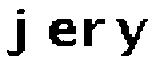e: (47, 16, 78, 49)
j: (1, 6, 32, 58)
r: (82, 16, 106, 50)
y: (113, 15, 148, 58)
